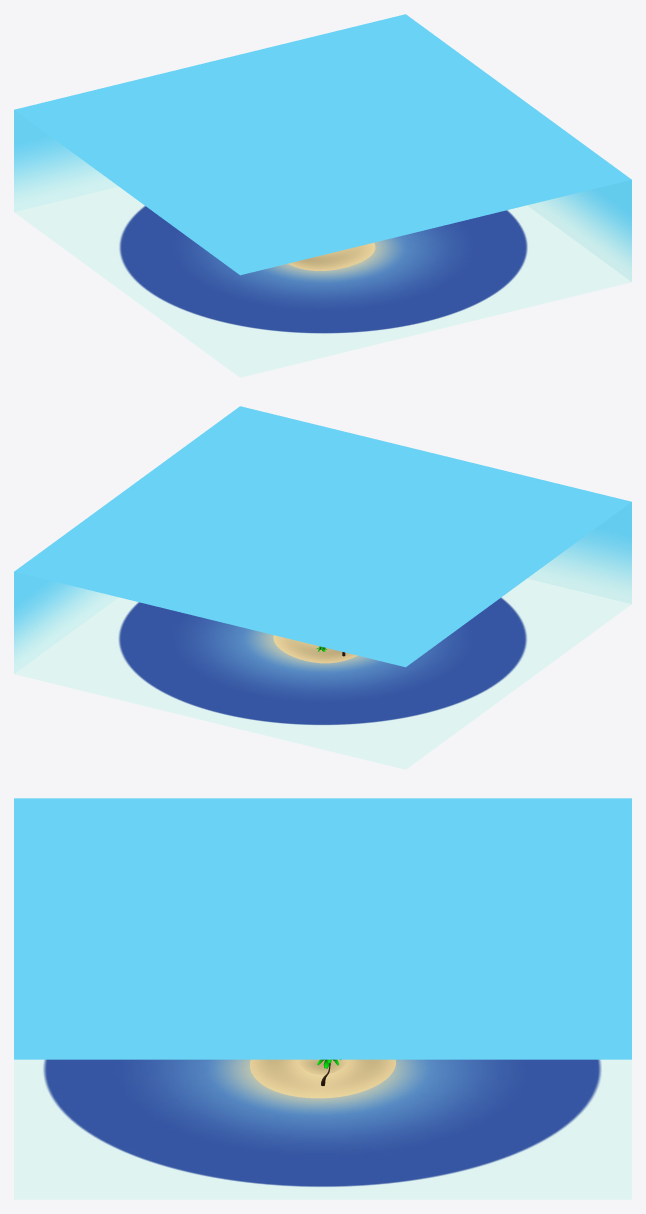
File: ocean.fbx
3 renders of one model, top to bottom at view 1: azimuth 30°, elevation 25°; view 2: azimuth 150°, elevation 25°; view 3: azimuth 270°, elevation 25°, orthographic. The views are drawn at different scales.
Parts seen in each view (by area): view 1: top, ocean, skybox, island; view 2: top, ocean, skybox, island; view 3: top, ocean, island.
Boxes of the visible parts, <box> form: top: <box>14,14,631,275</box>; ocean: <box>14,186,631,377</box>; skybox: <box>14,110,631,281</box>; island: <box>288,242,375,270</box>; top: <box>14,406,631,667</box>; ocean: <box>14,578,631,769</box>; skybox: <box>14,502,631,673</box>; island: <box>273,635,357,663</box>; top: <box>14,798,631,1059</box>; ocean: <box>14,1059,631,1199</box>; island: <box>250,1059,395,1098</box>.
Size of the model in its own units: 400 by 100 by 400.
